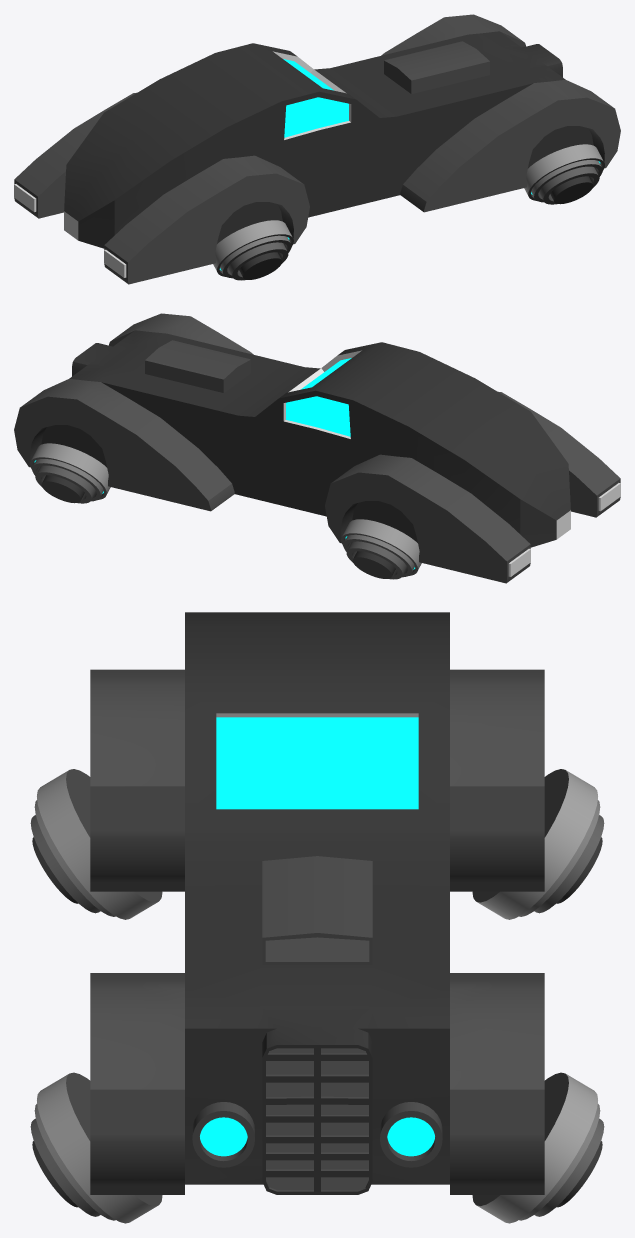
File: SM_Car_C.fbx
3 views of the same model, one above another, from view 1: azimuth 30°, elevation 25°; view 2: azimuth 150°, elevation 25°; view 3: azimuth 270°, elevation 25° (orthographic). The views are drawn at different scales.
Visible parts, largest first — view 1: SM_Car_C; view 2: SM_Car_C; view 3: SM_Car_C.
Part boxes in pixels (x1=…): SM_Car_C: x1=14, y1=14, x2=620, y2=284; SM_Car_C: x1=14, y1=313, x2=620, y2=583; SM_Car_C: x1=30, y1=612, x2=604, y2=1223.
Size of the model in its own units: 248 by 72.78 by 124.
